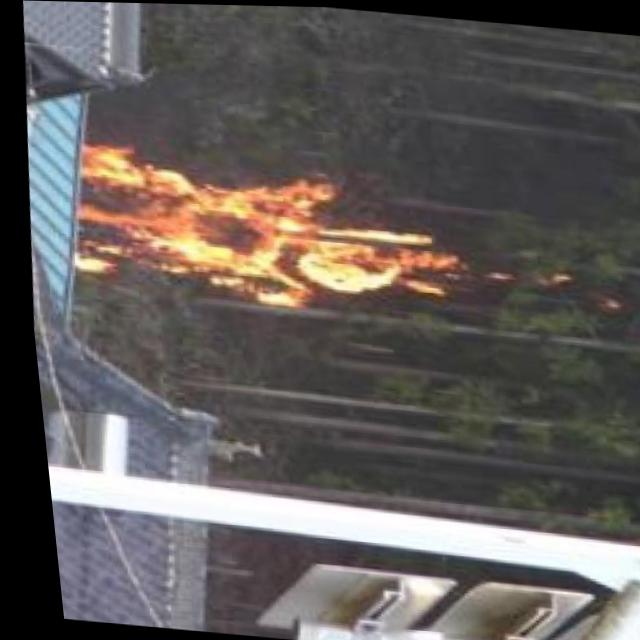Fire: (52, 149, 456, 322)
